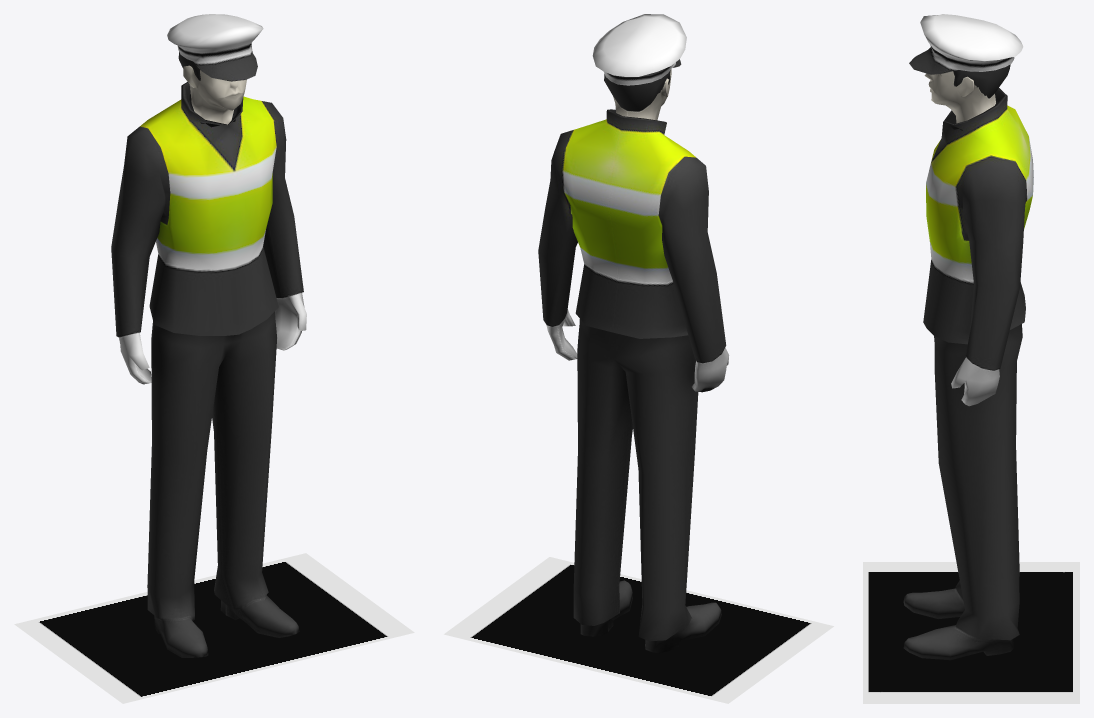
Rendered from TrafficPolice.fbx.
The picture shows the model from 3 angles, left to right: view 1: azimuth 30°, elevation 25°; view 2: azimuth 150°, elevation 25°; view 3: azimuth 270°, elevation 25°; orthographic projection. The views are drawn at different scales.
Visible parts, largest first — view 1: model_TrafficPolice, model_TrafficPolice_shadow; view 2: model_TrafficPolice, model_TrafficPolice_shadow; view 3: model_TrafficPolice, model_TrafficPolice_shadow.
Boxes of the visible parts, x1,y1,x2,y2 form: model_TrafficPolice: (111, 14, 306, 657); model_TrafficPolice_shadow: (14, 553, 414, 703); model_TrafficPolice: (538, 14, 729, 653); model_TrafficPolice_shadow: (444, 557, 833, 703); model_TrafficPolice: (903, 14, 1033, 660); model_TrafficPolice_shadow: (863, 562, 1079, 703).
Size of the model in its own units: 0.904 by 1.82 by 0.5835.
